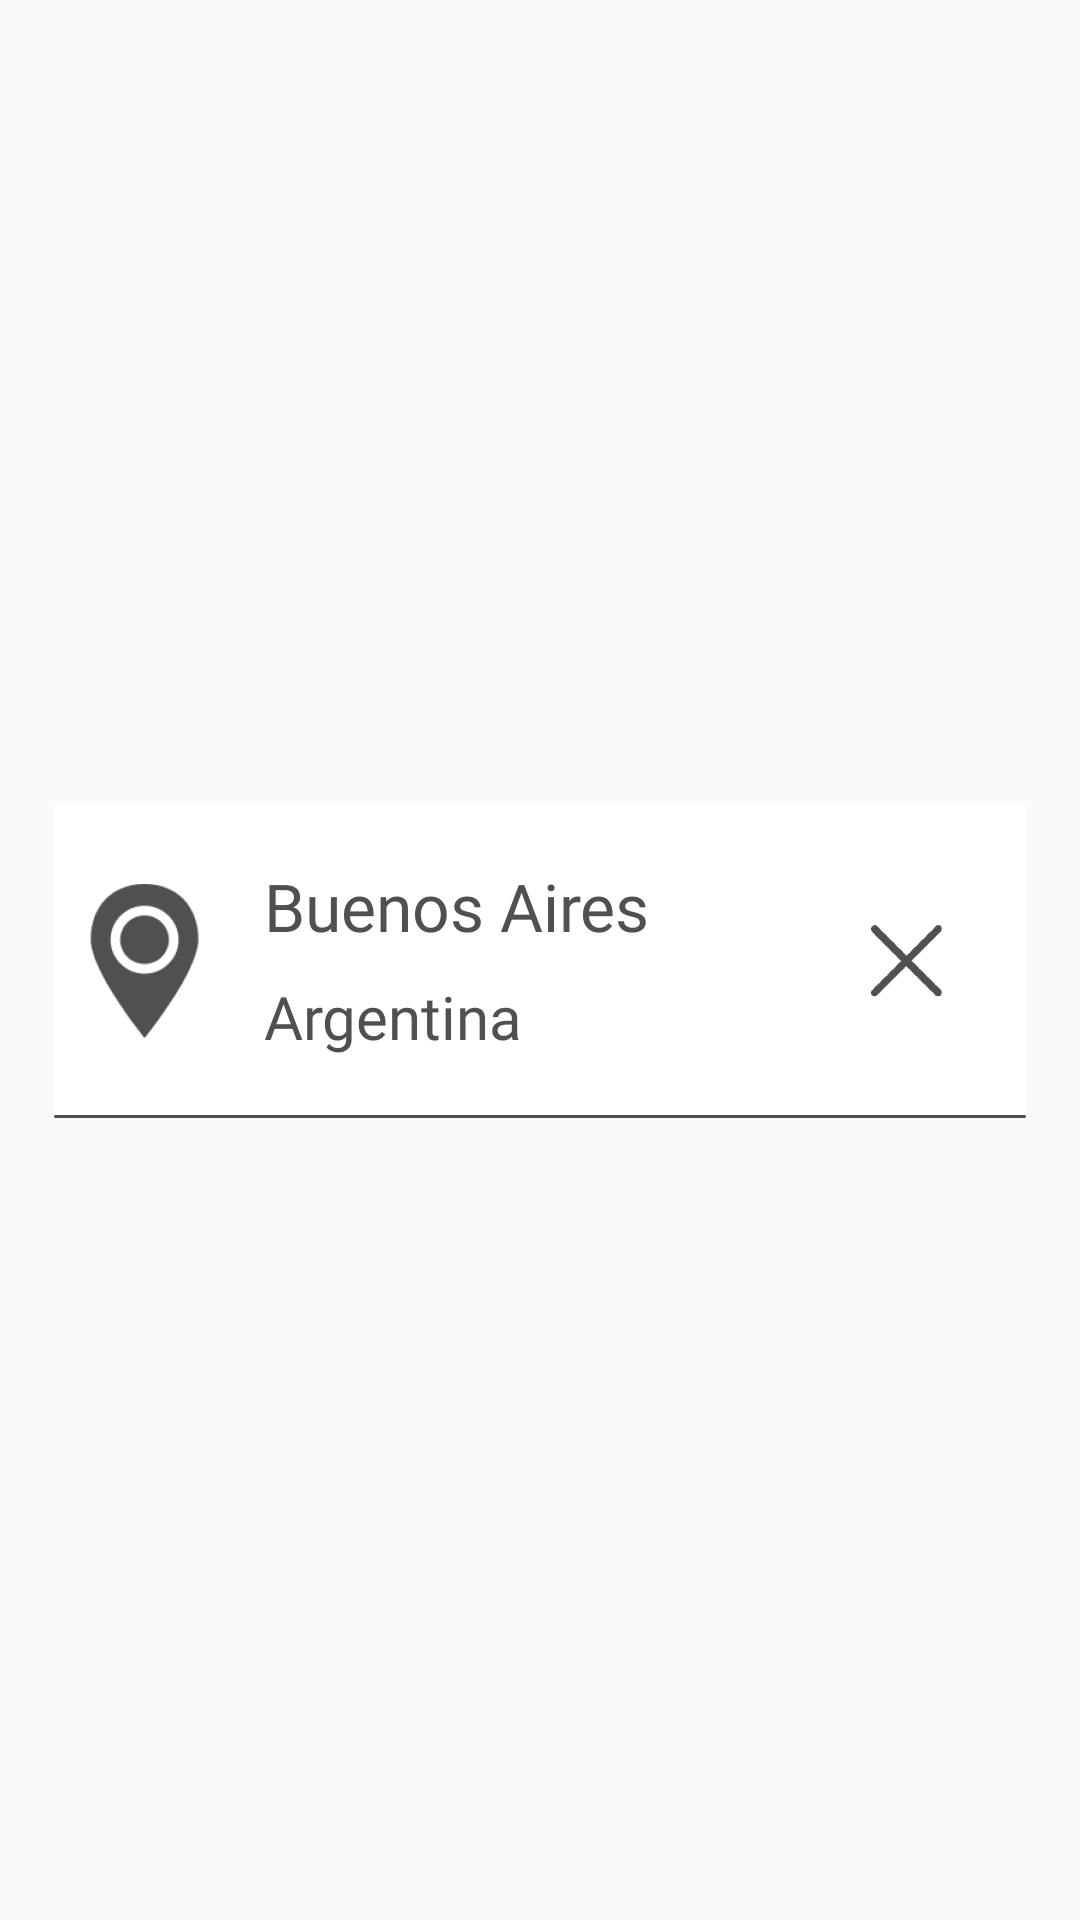

Point at icon controls on the screen. Image size 1080x1920, points as point (x, y).
delete: point (906, 961)
place: point (144, 961)
